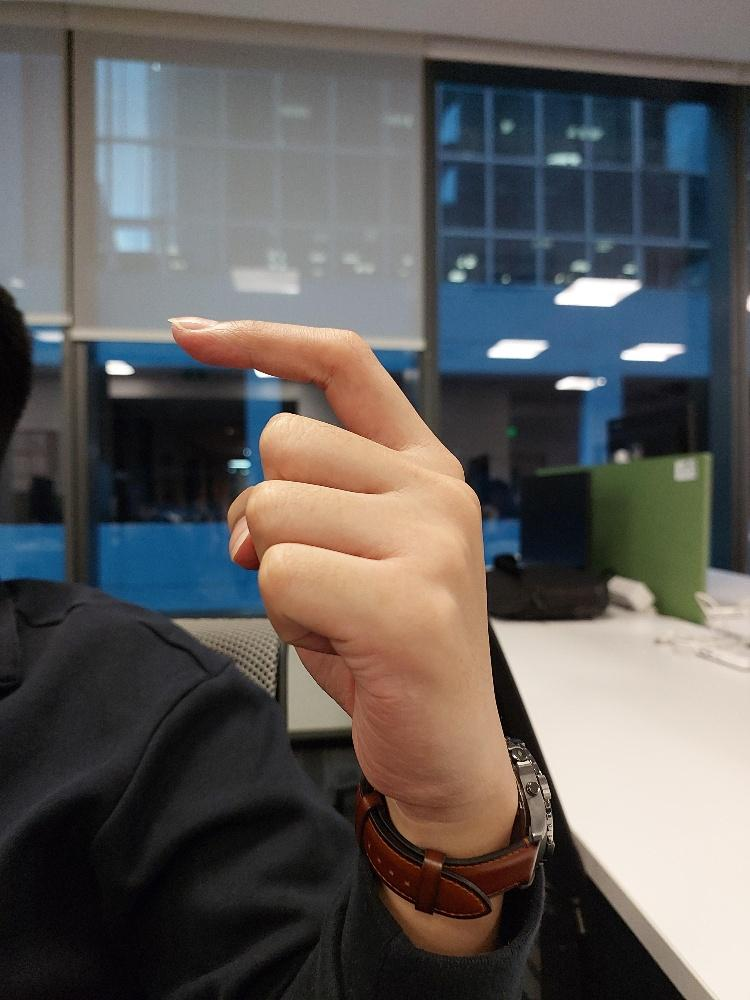x: (168, 310, 494, 797)
